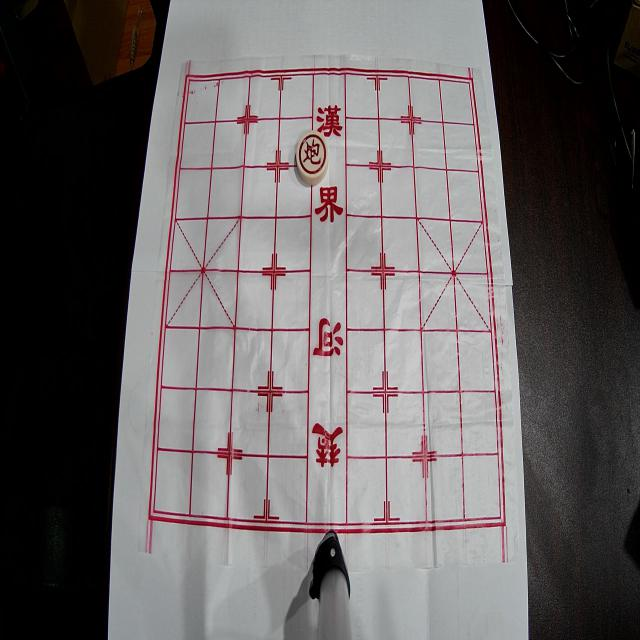red-cannon: (296, 131, 328, 185)
